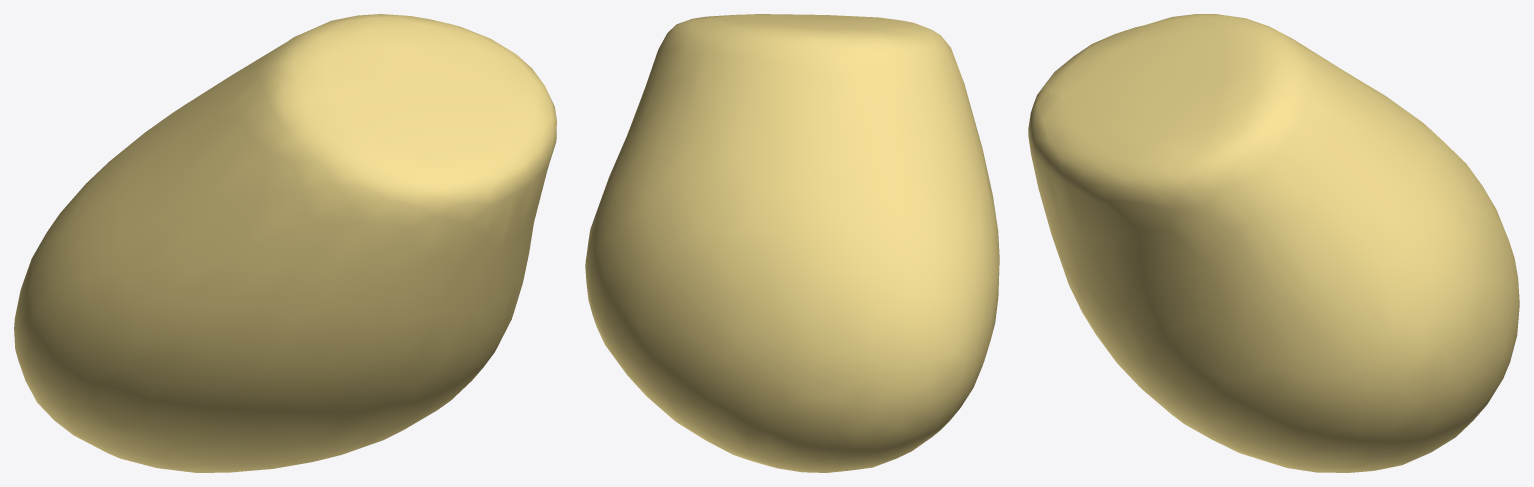
File: fma73684_mm3242.glb
3 views of the same model, side by side, from view 1: azimuth 30°, elevation 25°; view 2: azimuth 150°, elevation 25°; view 3: azimuth 270°, elevation 25° (orthographic). The views are drawn at different scales.
Visible parts, largest first — view 1: FMA73684_MM3242; view 2: FMA73684_MM3242; view 3: FMA73684_MM3242.
Boxes of the visible parts, box(x1,y1,x2,y2) form: FMA73684_MM3242: box(14, 14, 556, 472); FMA73684_MM3242: box(585, 14, 999, 472); FMA73684_MM3242: box(1028, 14, 1519, 472).
Size of the model in its own units: 0.00403 by 0.00386 by 0.00402.
